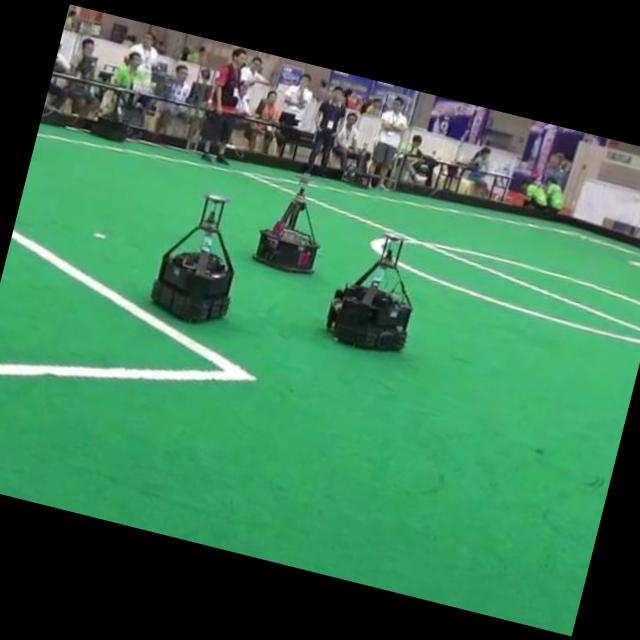robot: (151, 194, 233, 321), (326, 234, 411, 349), (253, 187, 317, 272), (90, 91, 127, 141)
